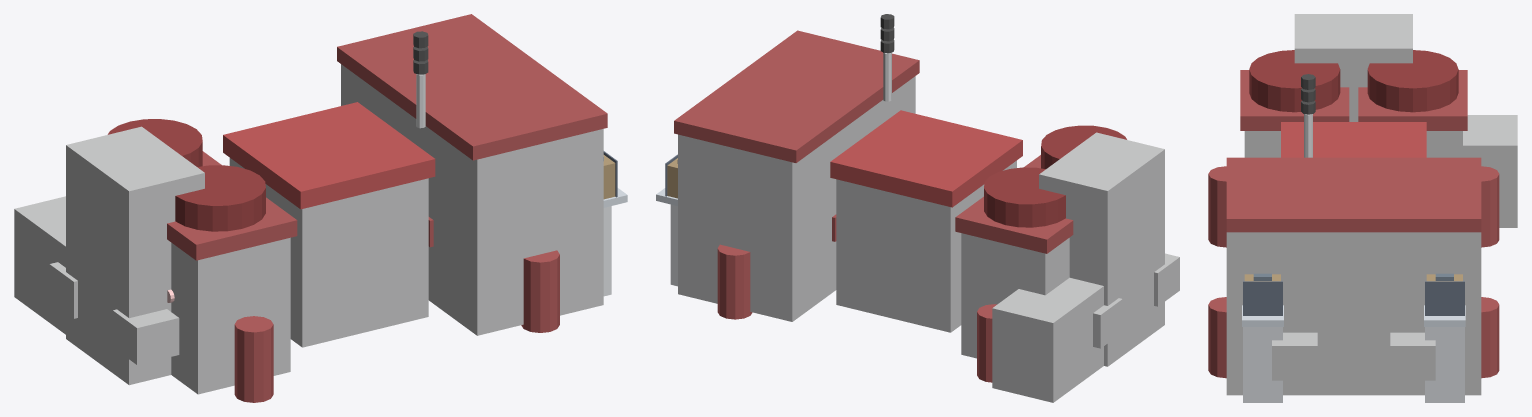
Rendered from ETCH.glb.
The picture shows the model from 3 angles, left to right: view 1: azimuth 30°, elevation 25°; view 2: azimuth 150°, elevation 25°; view 3: azimuth 270°, elevation 25°; orthographic projection. The views are drawn at different scales.
Visible parts, largest first — view 1: p00035, p00061, p00036, p00001, p00002, p00019, p00066, p00021, p00020, p00024, p00022, p00008 (+4 smaller); view 2: p00035, p00036, p00061, p00001, p00002, p00066, p00027, p00029, p00028, p00016, p00021, p00032 (+3 smaller); view 3: p00035, p00036, p00061, p00002, p00029, p00021, p00066, p00038, p00050, p00028, p00020, p00006 (+12 smaller).
Part boxes in pixels (left/top/right/bottom): p00035: left=341, top=64, right=603, bottom=335; p00061: left=66, top=126, right=204, bottom=385; p00036: left=337, top=14, right=607, bottom=160; p00001: left=229, top=158, right=428, bottom=347; p00002: left=223, top=102, right=435, bottom=209; p00019: left=171, top=237, right=290, bottom=394; p00066: left=14, top=196, right=65, bottom=334; p00021: left=175, top=165, right=265, bottom=231; p00020: left=167, top=197, right=297, bottom=260; p00024: left=234, top=316, right=273, bottom=402; p00022: left=112, top=309, right=179, bottom=364; p00008: left=521, top=250, right=559, bottom=332; p00035: left=678, top=76, right=915, bottom=321; p00036: left=674, top=30, right=919, bottom=162; p00061: left=1039, top=132, right=1164, bottom=366; p00001: left=836, top=160, right=1016, bottom=332; p00002: left=830, top=110, right=1022, bottom=207; p00066: left=992, top=277, right=1103, bottom=402; p00027: left=961, top=233, right=1069, bottom=358; p00029: left=984, top=167, right=1065, bottom=227; p00028: left=955, top=196, right=1073, bottom=253; p00016: left=717, top=244, right=752, bottom=319; p00021: left=1041, top=125, right=1126, bottom=168; p00032: left=977, top=304, right=996, bottom=382; p00035: left=1226, top=232, right=1481, bottom=395; p00036: left=1226, top=157, right=1481, bottom=232; p00061: left=1294, top=14, right=1412, bottom=121; p00002: left=1281, top=122, right=1426, bottom=157; p00029: left=1367, top=50, right=1458, bottom=112; p00021: left=1249, top=50, right=1340, bottom=112; p00066: left=1463, top=115, right=1517, bottom=227; p00038: left=1425, top=327, right=1464, bottom=402; p00050: left=1243, top=327, right=1282, bottom=402; p00028: left=1358, top=70, right=1467, bottom=130; p00020: left=1240, top=70, right=1349, bottom=130; p00006: left=1272, top=332, right=1317, bottom=380.
Bounding box in the file's own units: 5.63 × 3.14 × 3.4.
